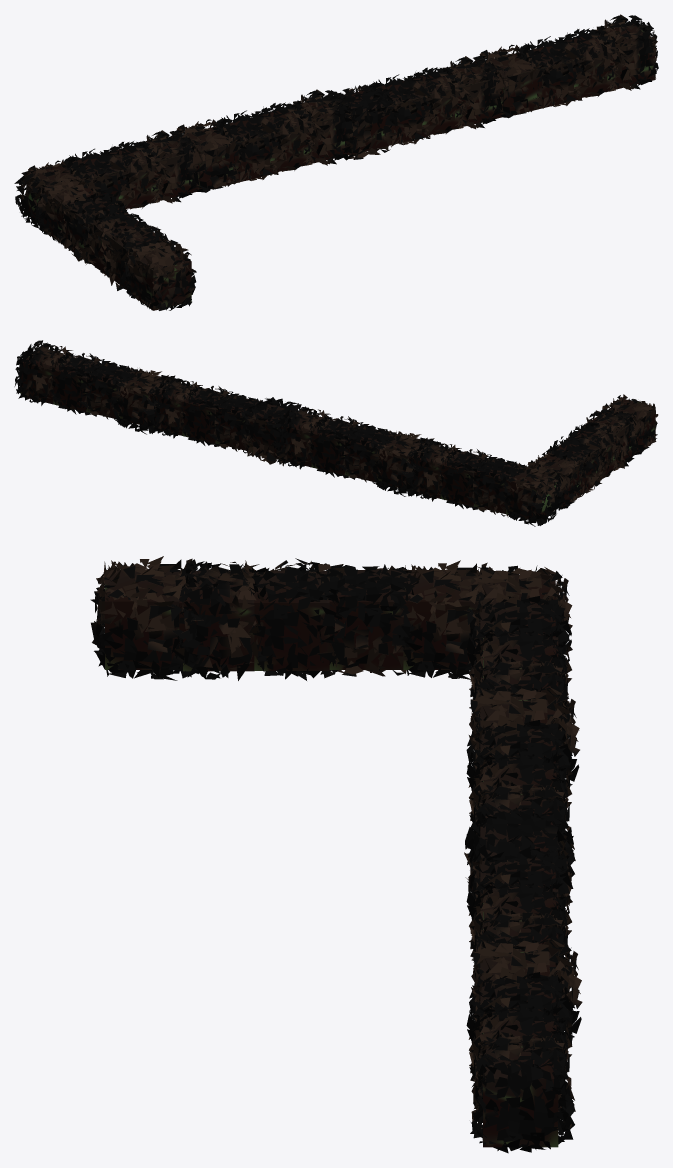
File: level3longhedge (1).fbx
3 renders of one model, top to bottom at view 1: azimuth 30°, elevation 25°; view 2: azimuth 150°, elevation 25°; view 3: azimuth 270°, elevation 25°, orthographic. The views are drawn at different scales.
Parts seen in each view (by area): view 1: Cube.083, Cube.021, Cube.035, Cube.013, Cube.031, Cube.015, Cube.019, Cube.033, Cube.017, Cube.023, Cube.025, Cube.009 (+30 smaller); view 2: Cube.005, Cube.021, Cube.029, Cube.013, Cube.035, Cube.007, Cube.019, Cube.015, Cube.031, Cube.023, Cube.017, Cube.033 (+30 smaller); view 3: Cube.035, Cube.083, Cube.077, Cube.081, Cube.075, Cube.079, Cube.029, Cube.013, Cube.021, Cube.080, Cube.017, Cube.007 (+15 smaller).
Part boxes in pixels (x1,y1,x2,y2): Cube.083: (120,239,196,310); Cube.021: (321,84,396,160); Cube.035: (595,14,658,90); Cube.013: (170,119,241,193); Cube.031: (515,36,588,108); Cube.015: (212,110,285,182); Cube.019: (293,89,354,165); Cube.033: (555,28,621,100); Cube.017: (251,102,318,174); Cube.023: (366,74,436,147); Cube.025: (404,67,469,137); Cube.009: (100,141,165,209); Cube.005: (503,464,567,526); Cube.021: (241,397,301,466); Cube.029: (111,368,175,434); Cube.013: (370,431,435,496); Cube.035: (14,340,73,405); Cube.007: (467,458,525,516); Cube.019: (273,404,332,469); Cube.015: (337,425,397,483); Cube.031: (79,362,138,420); Cube.023: (208,395,265,453); Cube.017: (308,415,369,478); Cube.033: (50,352,110,415); Cube.035: (470,1033,575,1153); Cube.083: (90,556,203,680); Cube.077: (316,564,419,676); Cube.081: (175,559,264,680); Cube.075: (398,560,492,679); Cube.079: (248,558,344,680); Cube.029: (469,938,582,1053); Cube.013: (466,686,579,789); Cube.021: (464,807,573,910); Cube.080: (254,571,329,670); Cube.017: (469,741,567,823); Cube.007: (466,596,572,704).
Size of the model in its own units: 1052 by 100 by 420.
2 materials, 2 textured.
